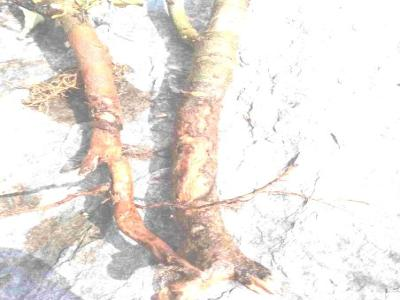Root: (47, 0, 272, 300), (173, 0, 246, 206)
